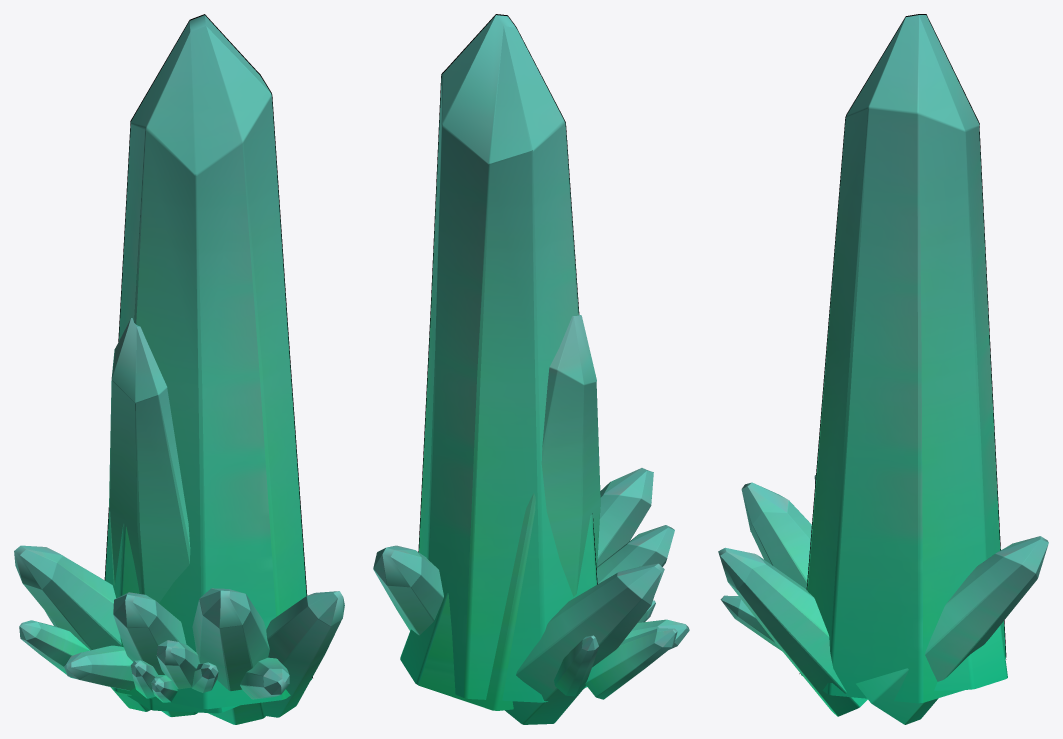
File: Crystal_Cluster.glb
3 renders of one model, left to right at view 1: azimuth 30°, elevation 25°; view 2: azimuth 150°, elevation 25°; view 3: azimuth 270°, elevation 25°, orthographic.
Parts seen in each view (by area): view 1: Crystal_Cluster; view 2: Crystal_Cluster; view 3: Crystal_Cluster.
Boxes of the visible parts, x1,y1,x2,y2 form: Crystal_Cluster: [14, 14, 344, 724]; Crystal_Cluster: [373, 14, 689, 724]; Crystal_Cluster: [718, 14, 1048, 724].
Bounding box in the file's own units: 6.23 × 15.47 × 6.75.
2 materials, 1 textured.
